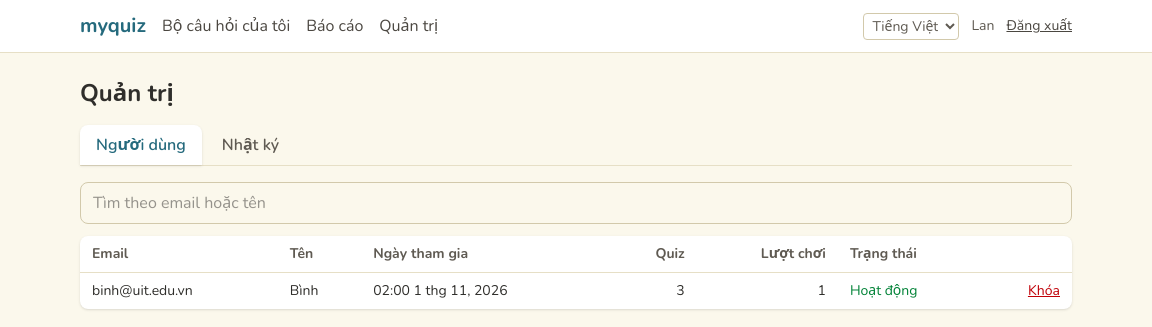
Test: an admin searches users and suspends one with CSRF
This screenshot has width=1152, height=327.
Expected: the link "Quản trị" is shown, x1=379 y1=14 x2=438 y2=38
Expected: the text "binh@uit.edu.vn" is shown, x1=80 y1=272 x2=278 y2=309
Type "bình" into the field labelled "Tìm theo email hoặc tên" at (576, 203), box x1=80 y1=182 x2=1072 y2=224
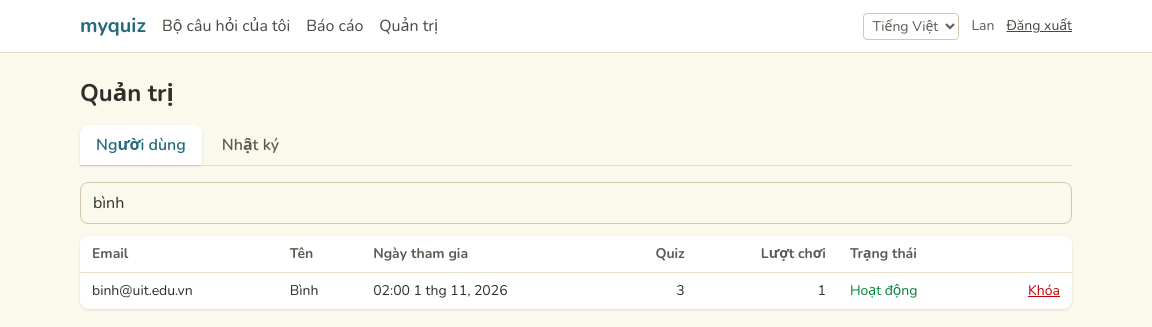
Click the button "Khóa" at (1044, 291), box x1=1028 y1=281 x2=1060 y2=301
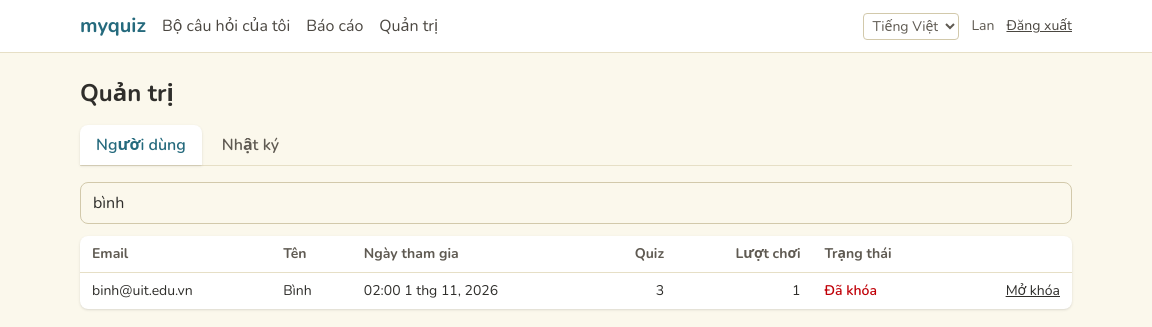
Expected: the text "Đã khóa" is shown, x1=824 y1=281 x2=877 y2=300
Expected: the button "Mở khóa" is shown, x1=1006 y1=281 x2=1060 y2=301
